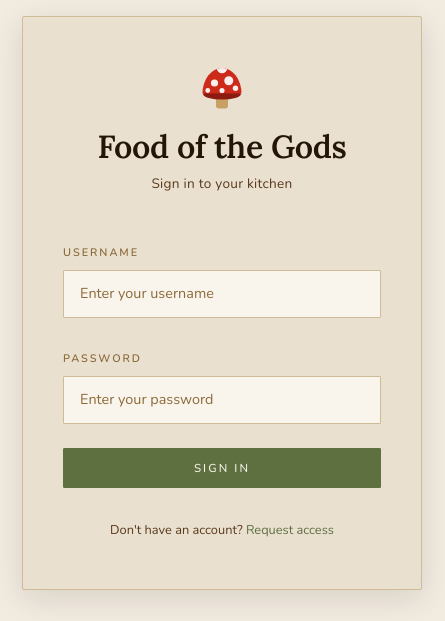
Scenario: Login › disables button while loading
This screenshot has width=445, height=621.
Type "testuser" into the field labelled "Username" at [222, 294], box [63,270,381,318]
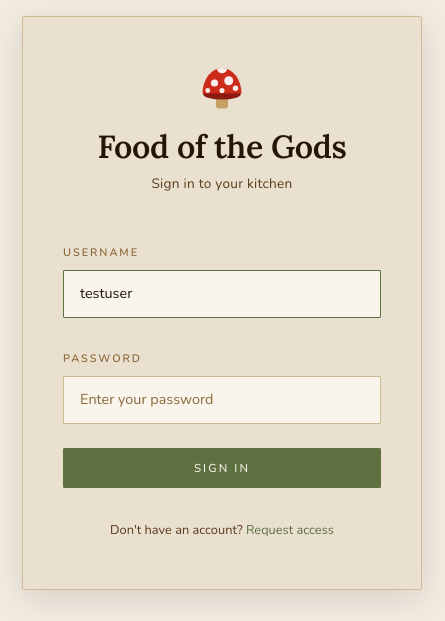
Type "testpassword" into the password field labelled "Password" at [222, 400], box [63,376,381,424]
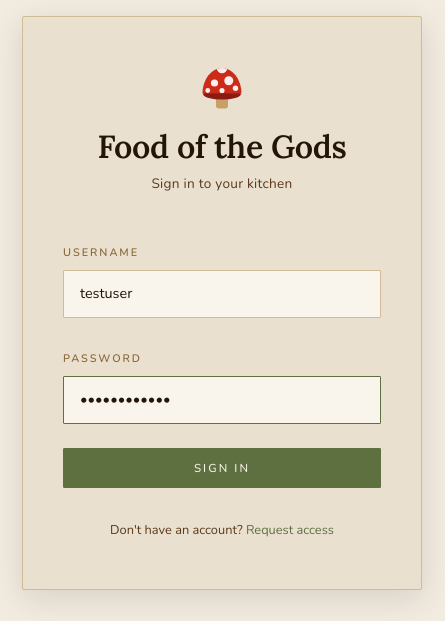
Click the button "Sign In" at [222, 468], box [63,448,381,488]
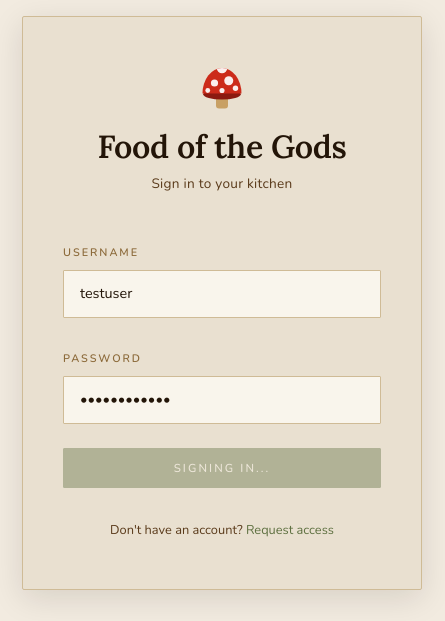
Result: the button "Signing in..." is disabled at [63,448,381,488]
